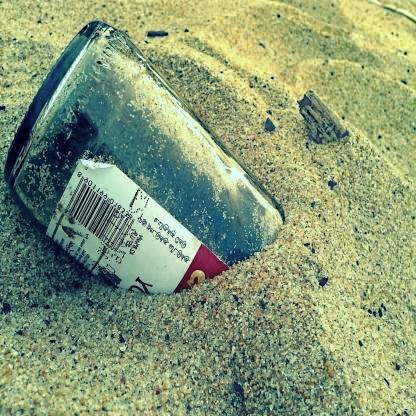gbottle: (6, 20, 290, 296)
